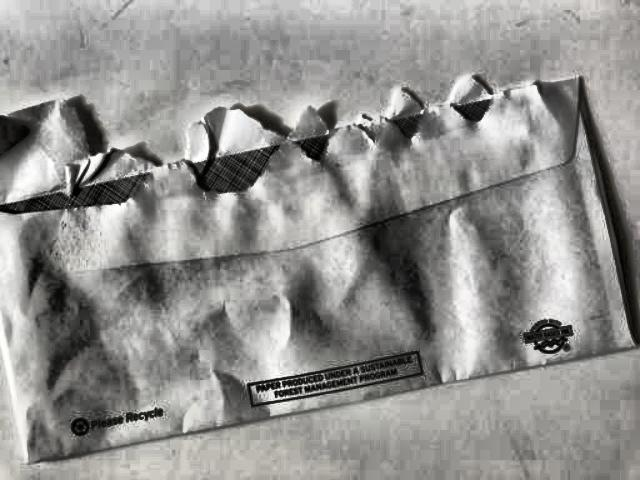Paper: (4, 62, 640, 480)
